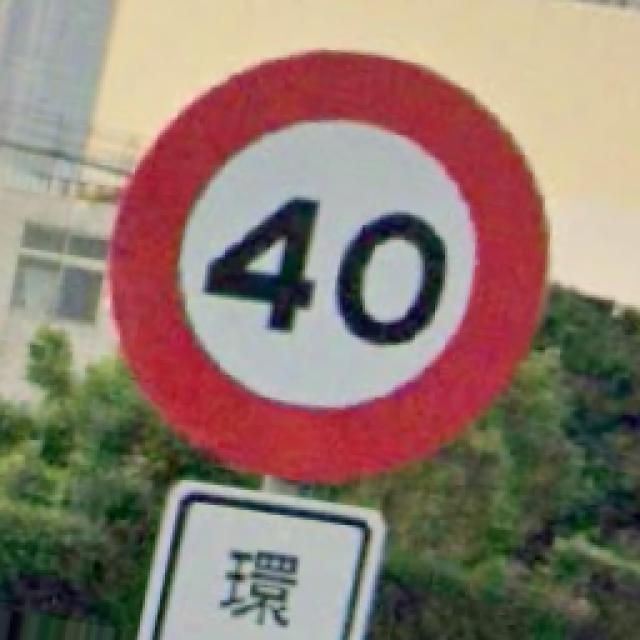Speed Limit -40-: (110, 52, 545, 480)
